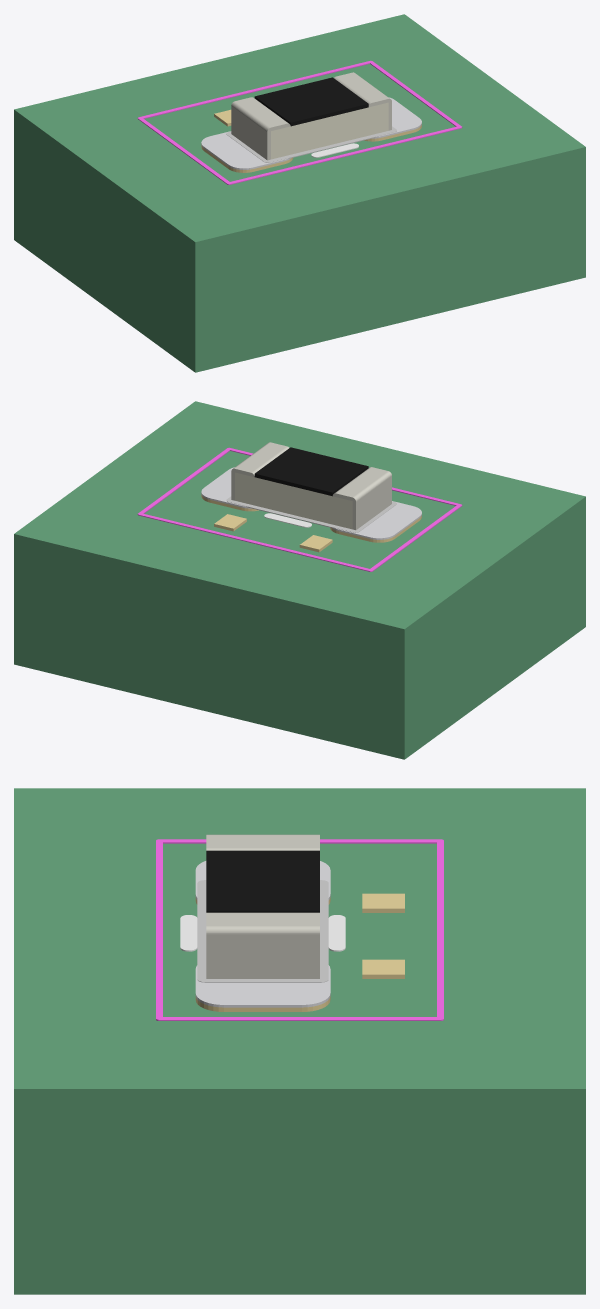
Rendered from head.glb.
3 views of the same model, one above another, from view 1: azimuth 30°, elevation 25°; view 2: azimuth 150°, elevation 25°; view 3: azimuth 270°, elevation 25° (orthographic). The views are drawn at different scales.
Parts seen in each view (by area): view 1: PCB, model_1, model_1_0_R_0603_1608Metric, F.CrtYd, F.Paste, F.Cu, F.Fab; view 2: PCB, model_1, model_1_0_R_0603_1608Metric, F.Paste, F.CrtYd, F.Cu, F.Fab; view 3: PCB, model_1_0_R_0603_1608Metric, model_1, F.CrtYd, F.Paste, F.Cu, F.Fab, F.SilkS.
Boxes of the visible parts, x1=… form: PCB: x1=14, y1=14, x2=585, y2=372; model_1: x1=254, y1=77, x2=388, y2=159; model_1_0_R_0603_1608Metric: x1=231, y1=72, x2=391, y2=160; F.CrtYd: x1=137, y1=60, x2=462, y2=184; F.Paste: x1=201, y1=97, x2=421, y2=169; F.Cu: x1=201, y1=109, x2=421, y2=172; F.Fab: x1=226, y1=126, x2=396, y2=162; PCB: x1=14, y1=401, x2=585, y2=759; model_1: x1=235, y1=447, x2=368, y2=529; model_1_0_R_0603_1608Metric: x1=231, y1=442, x2=391, y2=530; F.Paste: x1=201, y1=467, x2=421, y2=539; F.CrtYd: x1=137, y1=447, x2=462, y2=571; F.Cu: x1=201, y1=494, x2=421, y2=552; F.Fab: x1=226, y1=496, x2=396, y2=532; PCB: x1=14, y1=788, x2=585, y2=1294; model_1_0_R_0603_1608Metric: x1=206, y1=834, x2=319, y2=978; model_1: x1=206, y1=850, x2=319, y2=912; F.CrtYd: x1=156, y1=839, x2=443, y2=1020; F.Paste: x1=195, y1=861, x2=330, y2=1007; F.Cu: x1=195, y1=893, x2=404, y2=1011; F.Fab: x1=197, y1=880, x2=328, y2=982; F.SilkS: x1=180, y1=915, x2=345, y2=951.
Size of the model in its own units: 5.01 by 2.05 by 4.03.
